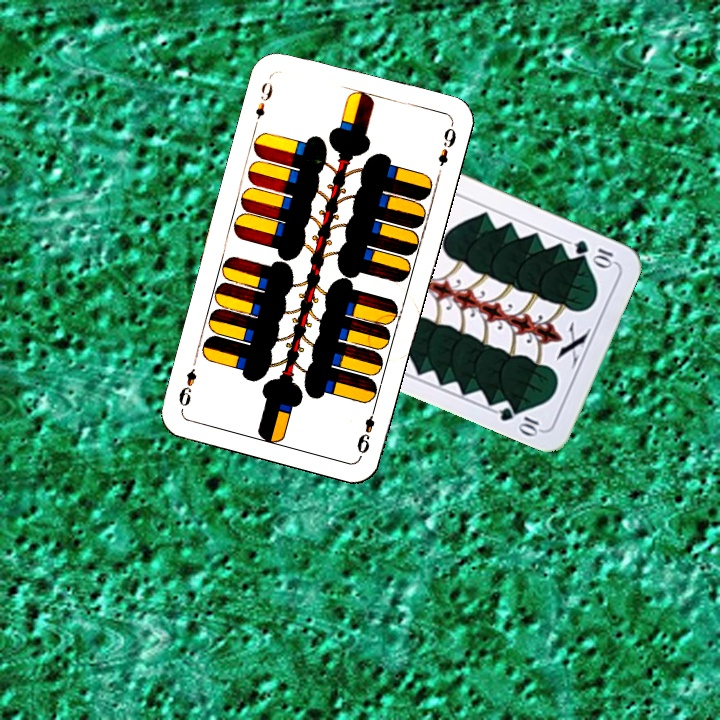E9: (250, 72, 276, 130), (353, 401, 379, 456)
G10: (570, 236, 617, 270)
